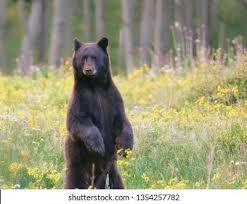bear: (65, 38, 134, 192)
